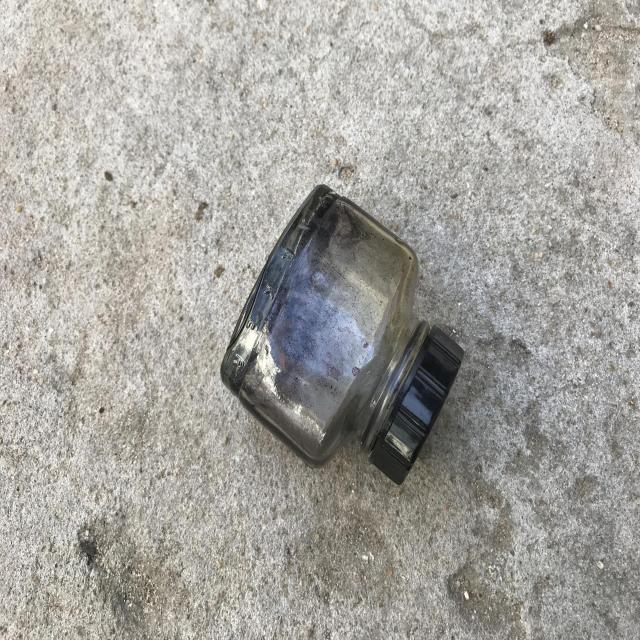glass: (221, 185, 465, 484)
